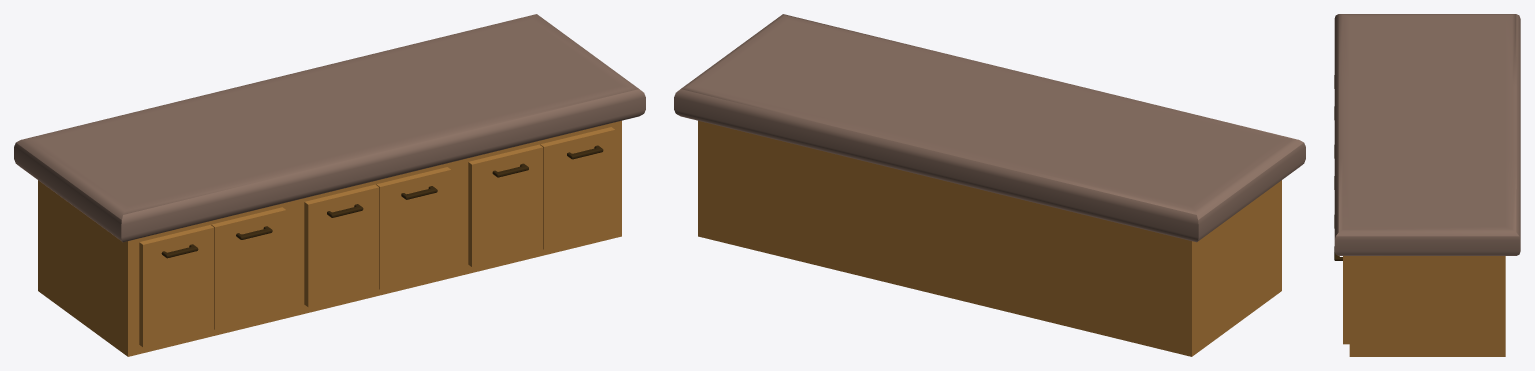
File: cabinet plain.fbx
3 views of the same model, side by side, from view 1: azimuth 30°, elevation 25°; view 2: azimuth 150°, elevation 25°; view 3: azimuth 270°, elevation 25° (orthographic). The views are drawn at different scales.
Parts seen in each view (by area): view 1: counter_cabinet; view 2: counter_cabinet; view 3: counter_cabinet.
Part boxes in pixels (bbox=[...]): counter_cabinet: bbox=[14, 14, 645, 356]; counter_cabinet: bbox=[674, 14, 1305, 356]; counter_cabinet: bbox=[1334, 14, 1520, 356].
Size of the model in its own units: 308 by 84.34 by 109.
Materials: 3 (3 with a texture image).
